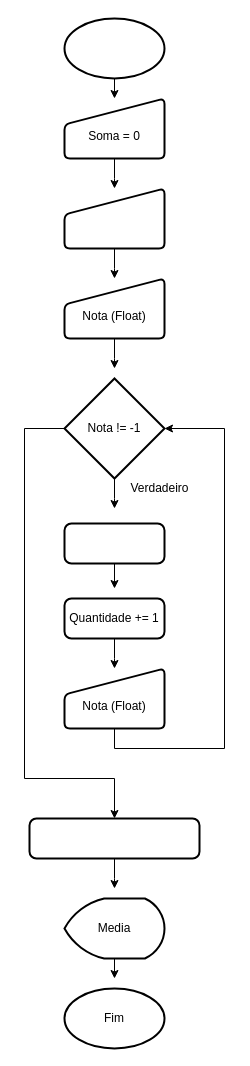
This 250x1066 diagram has some shape labels left out. The shapes that lost their labels are listed below. From the top down, each one's centre as x and y in pixels, then its label:
point (114, 48): Início
point (114, 218): Quantidade = 0
point (114, 543): Soma += Nota
point (114, 838): Media = Soma / Quantidade
